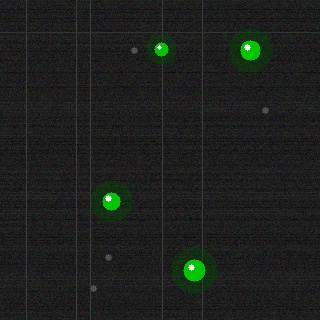green_normal: (181, 257, 207, 283), (238, 38, 262, 62), (100, 190, 122, 212), (152, 40, 170, 58)
